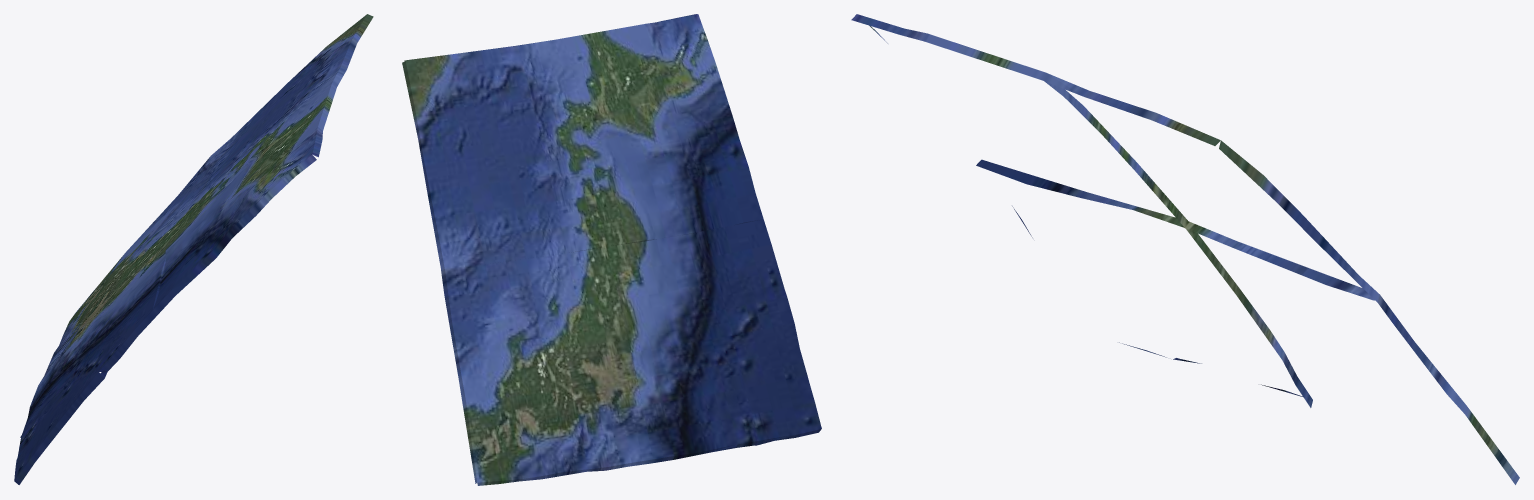
The picture shows the model from 3 angles, left to right: view 1: azimuth 30°, elevation 25°; view 2: azimuth 150°, elevation 25°; view 3: azimuth 270°, elevation 25°; orthographic projection. The views are drawn at different scales.
Bounding box in the file's own units: 1232622 × 990302 × 1263132.
Materials: 1 (1 with a texture image).
